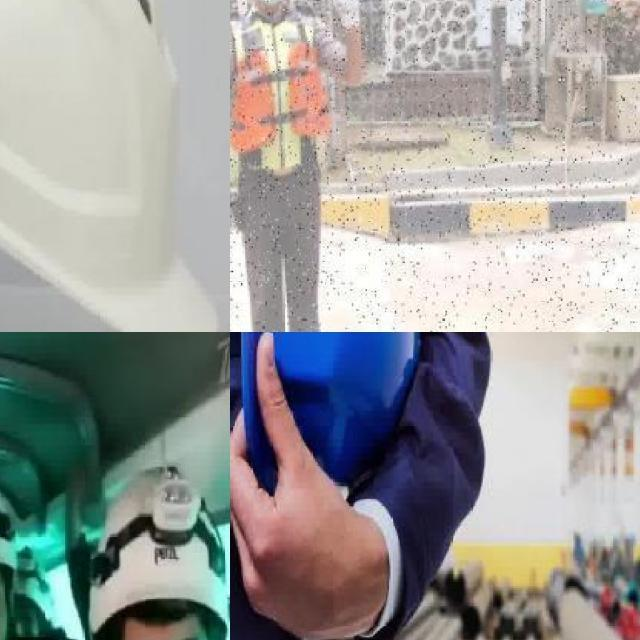apron: (330, 0, 363, 36)
